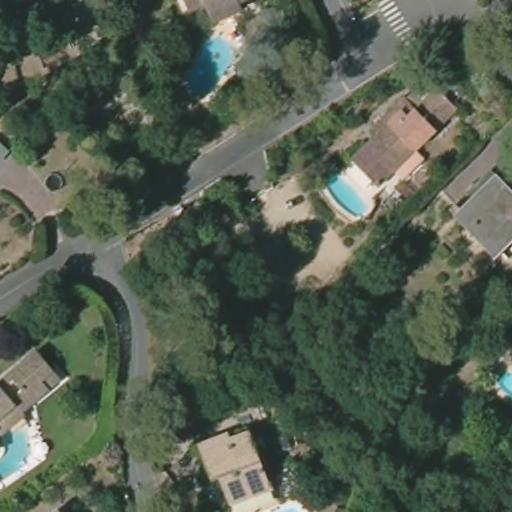pool: (171, 35, 240, 100), (0, 420, 41, 488), (320, 172, 370, 223), (497, 366, 511, 398)
